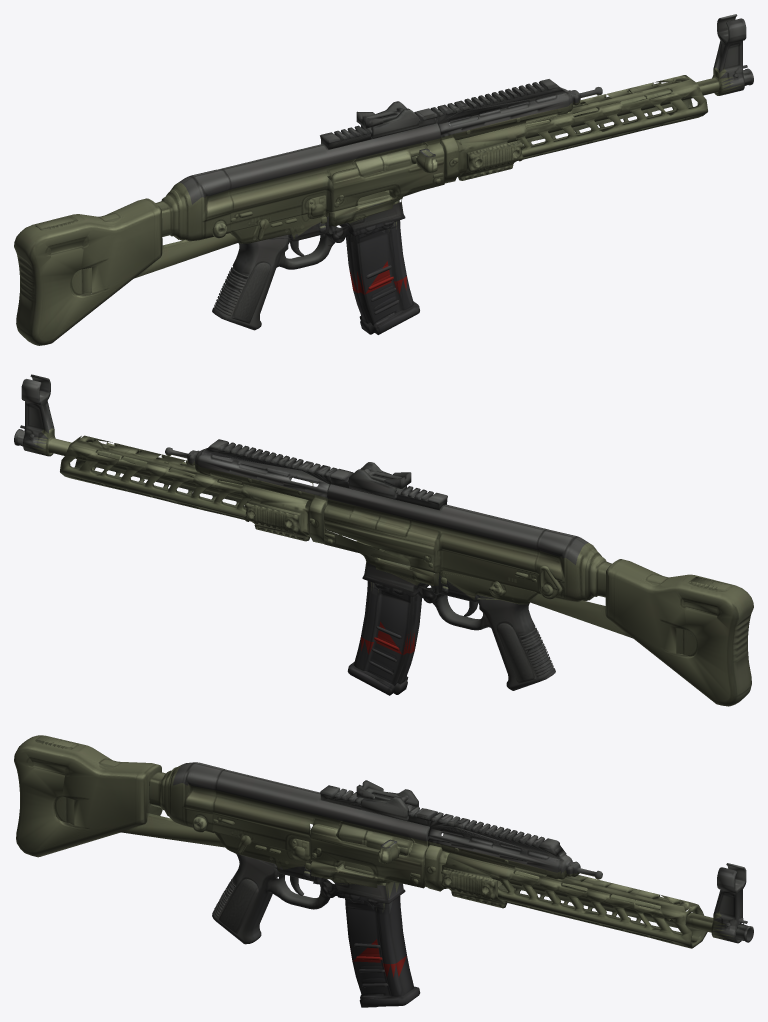
Rendered from stg44-2044-astra-a.glb.
3 views of the same model, one above another, from view 1: azimuth 30°, elevation 25°; view 2: azimuth 150°, elevation 25°; view 3: azimuth 330°, elevation 25° (orthographic).
Visible parts, largest first — view 1: receiver_body, receiver_steel, stock_fixed_body, mag_25_black, muzzle_tip_steel, mag_25_red; view 2: receiver_body, receiver_steel, stock_fixed_body, mag_25_black, muzzle_tip_steel, mag_25_red; view 3: receiver_body, receiver_steel, stock_fixed_body, mag_25_black, muzzle_tip_steel, mag_25_red.
Part boxes in pixels (x1,y1,x2,y2): receiver_body: (87, 67, 743, 293); receiver_steel: (178, 17, 729, 330); stock_fixed_body: (14, 182, 210, 345); mag_25_black: (325, 200, 419, 334); muzzle_tip_steel: (718, 14, 753, 94); mag_25_red: (349, 261, 406, 294); receiver_body: (24, 428, 576, 604); receiver_steel: (38, 378, 588, 690); stock_fixed_body: (528, 543, 753, 706); mag_25_black: (347, 574, 442, 695); muzzle_tip_steel: (14, 374, 49, 455); mag_25_red: (361, 621, 414, 654); receiver_body: (70, 783, 734, 948); receiver_steel: (173, 762, 722, 944); stock_fixed_body: (14, 735, 193, 857); mag_25_black: (319, 878, 420, 1007); muzzle_tip_steel: (711, 863, 753, 943); mag_25_red: (350, 939, 406, 977).
Size of the model in its own units: 0.9995 by 0.2944 by 0.0972.
Materials: 4 (4 with a texture image).
